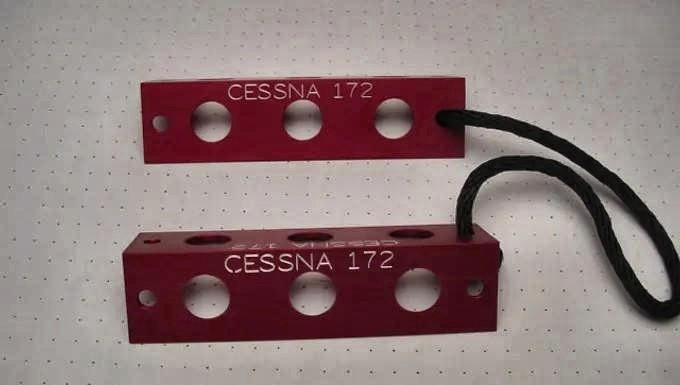chock: (119, 221, 507, 347), (135, 74, 477, 166)
